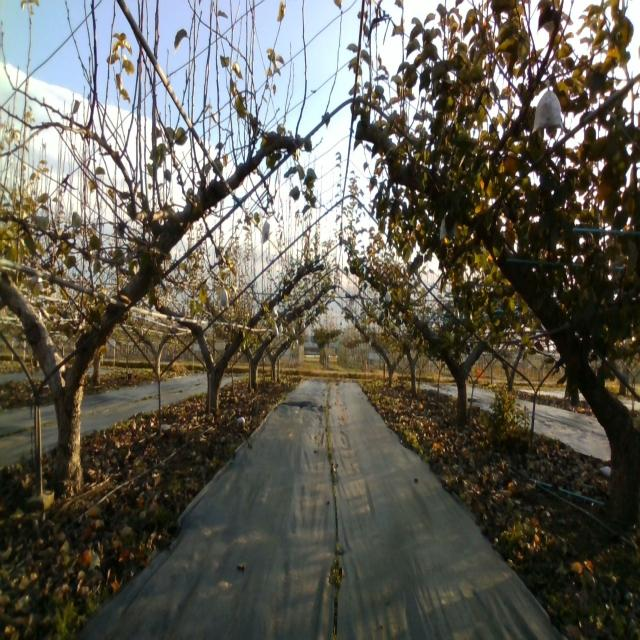pearbags: (532, 78, 564, 133), (217, 284, 230, 309)
